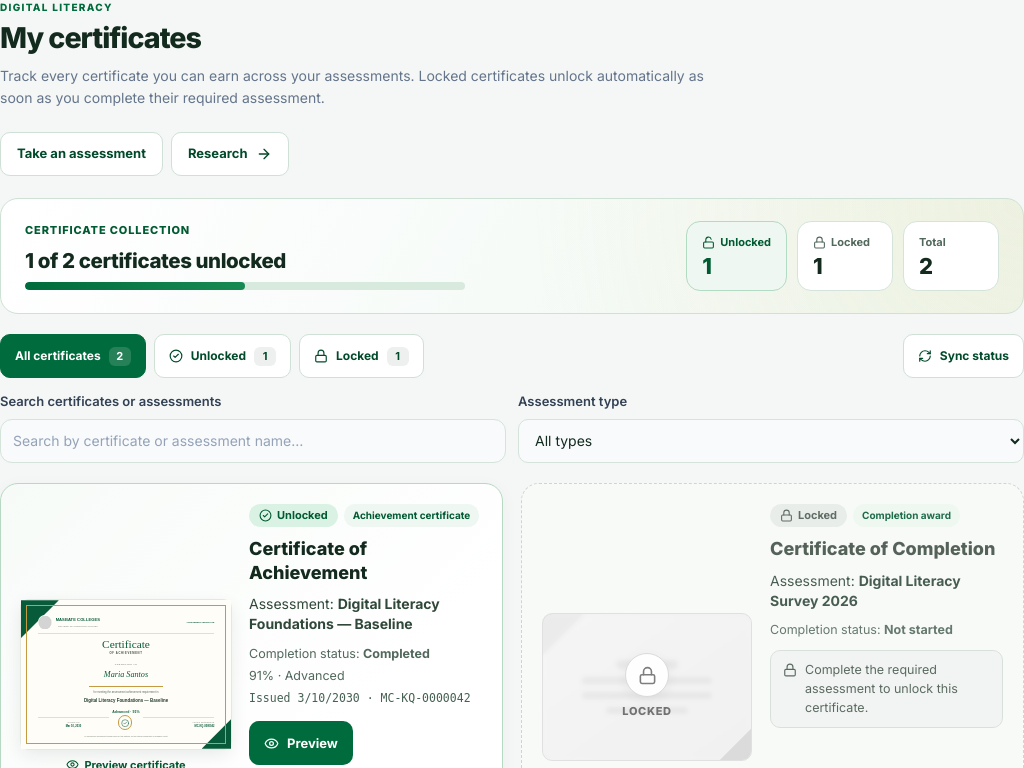
Test: My Certificates lock and unlock collection › displays both unlocked and locked certificates while blocking preview/download on locked items
Later steps or results of the test are not shown.
Expected: the heading "1 of 2 certificates unlocked" is shown, [25, 248, 286, 272]
Expected: the text "Unlocked" in the row of "Completion award" is shown, [277, 508, 328, 522]
# Unlocked preview modal works cleanly
Click the button "Preview": (301, 744) [249, 722, 353, 766]
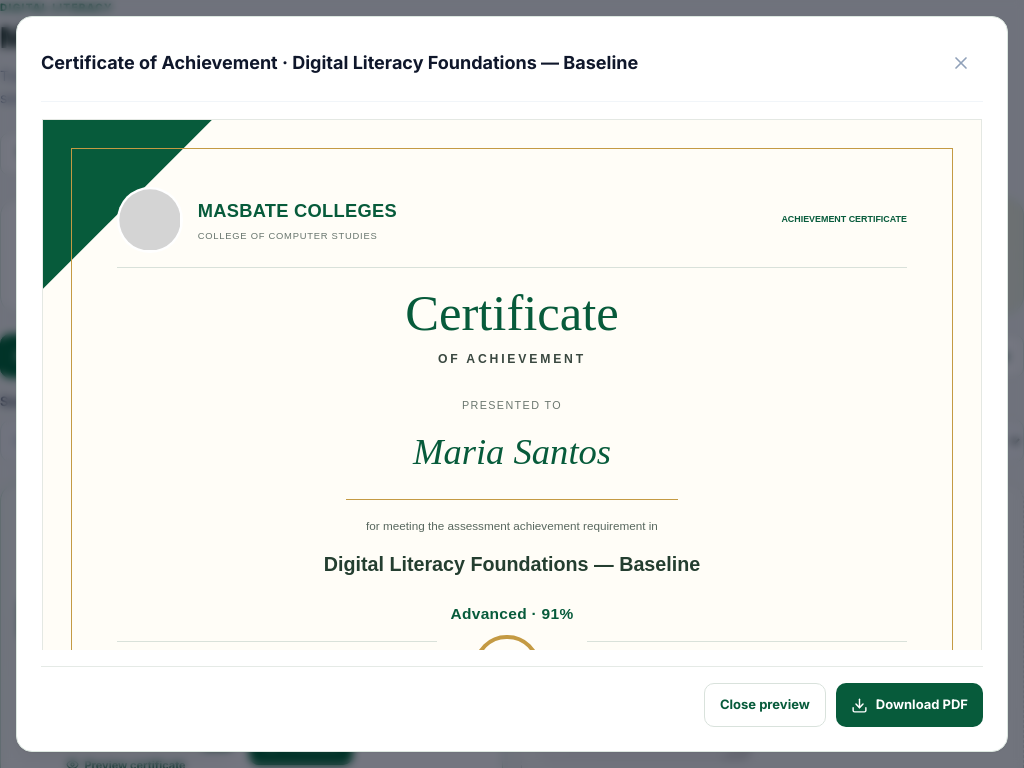
Now the dialog is shown
